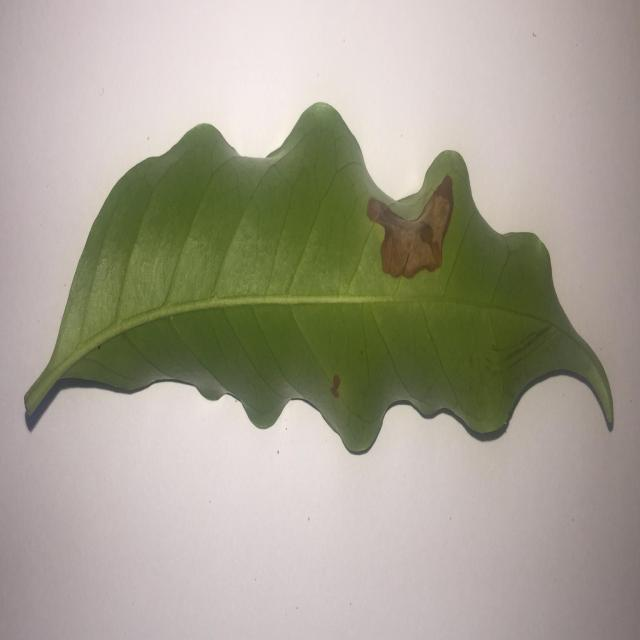Plaga-Minador: (22, 103, 616, 459)
